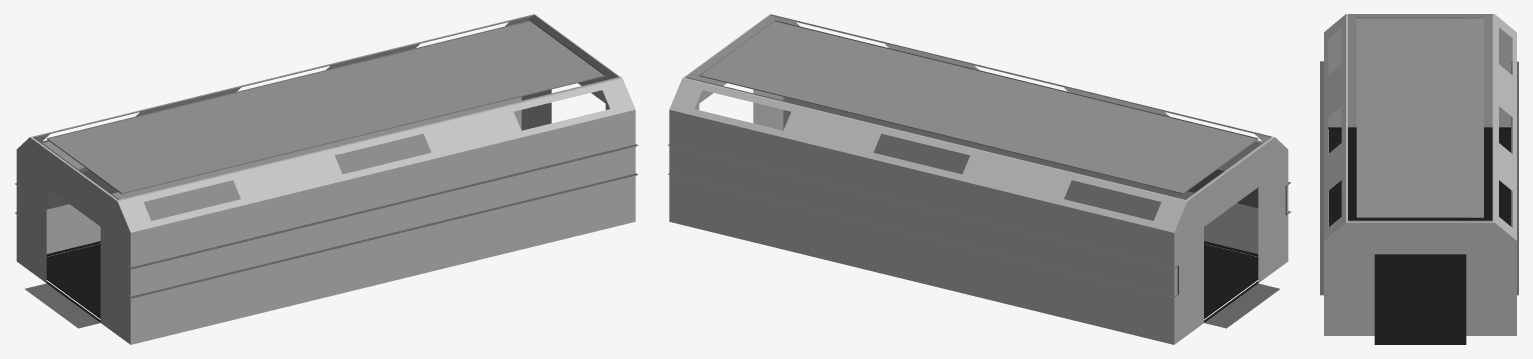
File: env_test_interior_hall_A.FBX
3 renders of one model, left to right at view 1: azimuth 30°, elevation 25°; view 2: azimuth 150°, elevation 25°; view 3: azimuth 270°, elevation 25°, orthographic. The views are drawn at different scales.
Parts seen in each view (by area): view 1: hall_A; view 2: hall_A; view 3: hall_A.
Boxes of the visible parts, x1,y1,x2,y2 form: hall_A: (15, 14, 638, 344); hall_A: (667, 14, 1291, 344); hall_A: (1320, 14, 1518, 344).
Size of the model in its own units: 725 by 171 by 269.
